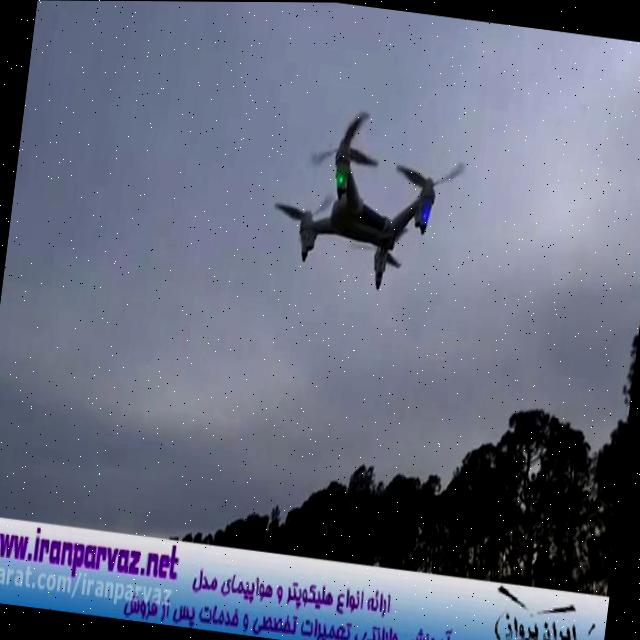drone: (260, 95, 474, 301)
